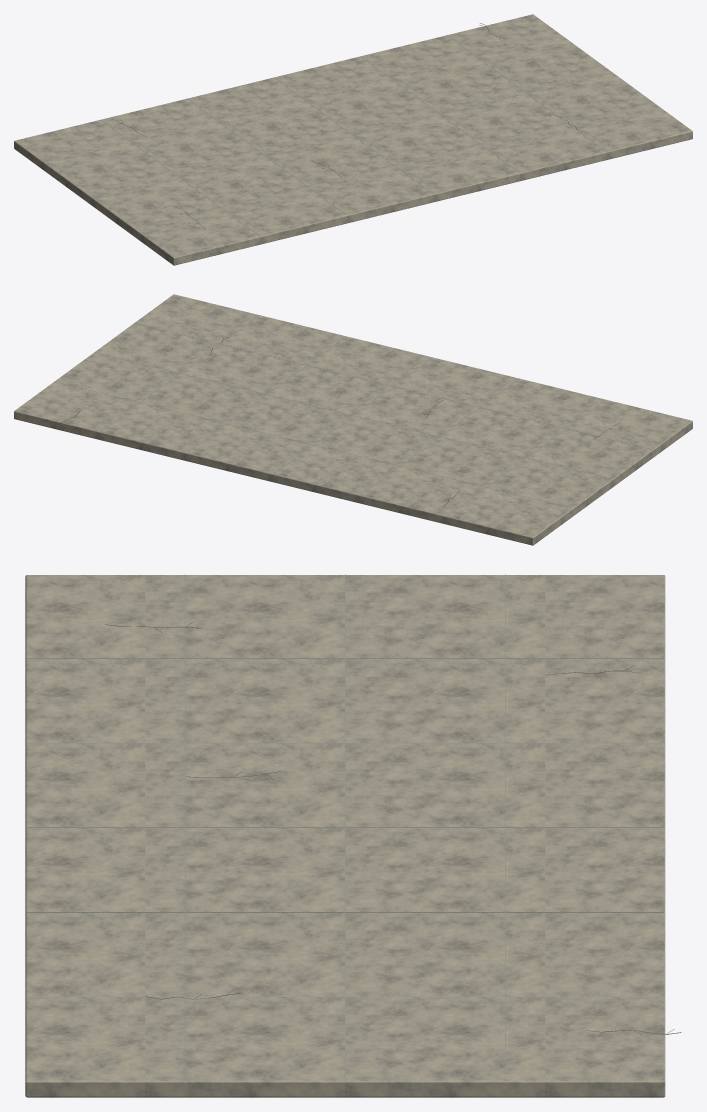
File: Shore_Yard_30x16.glb
The picture shows the model from 3 angles, top to bottom: view 1: azimuth 30°, elevation 25°; view 2: azimuth 150°, elevation 25°; view 3: azimuth 270°, elevation 25°; orthographic projection. The views are drawn at different scales.
Visible parts, largest first — view 1: Shore_Yard_30x16; view 2: Shore_Yard_30x16; view 3: Shore_Yard_30x16.
Boxes of the visible parts, x1=… form: Shore_Yard_30x16: x1=14, y1=14, x2=692, y2=265; Shore_Yard_30x16: x1=14, y1=294, x2=692, y2=545; Shore_Yard_30x16: x1=25, y1=574, x2=681, y2=1097.
Size of the model in its own units: 30 by 0.469 by 16.4.
Materials: 3 (1 with a texture image).
